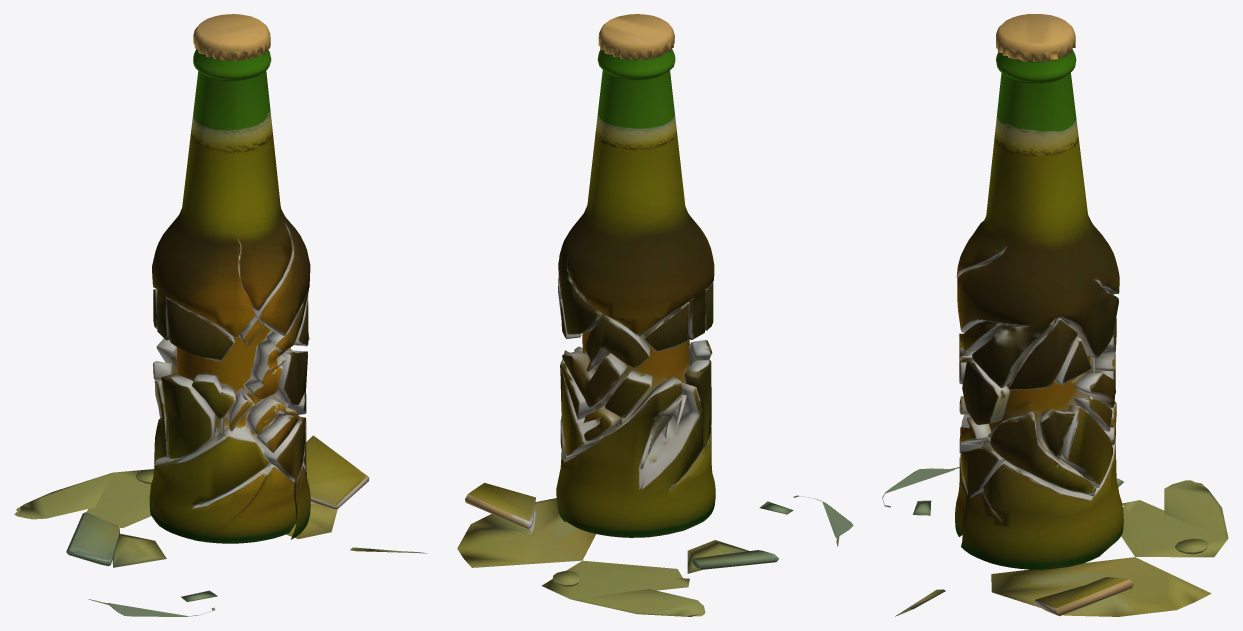
The model's file is broken_beer_bottles_d16e9f56_v3.glb.
3 views of the same model, side by side, from view 1: azimuth 30°, elevation 25°; view 2: azimuth 150°, elevation 25°; view 3: azimuth 270°, elevation 25° (orthographic). The views are drawn at different scales.
Parts seen in each view (by area): view 1: material; view 2: material; view 3: material.
Boxes of the visible parts, x1,y1,x2,y2 form: material: (14, 14, 426, 616); material: (457, 14, 853, 616); material: (882, 14, 1228, 616).
Bounding box in the file's own units: 1.26 × 1.9 × 1.14.
1 material, 1 textured.
